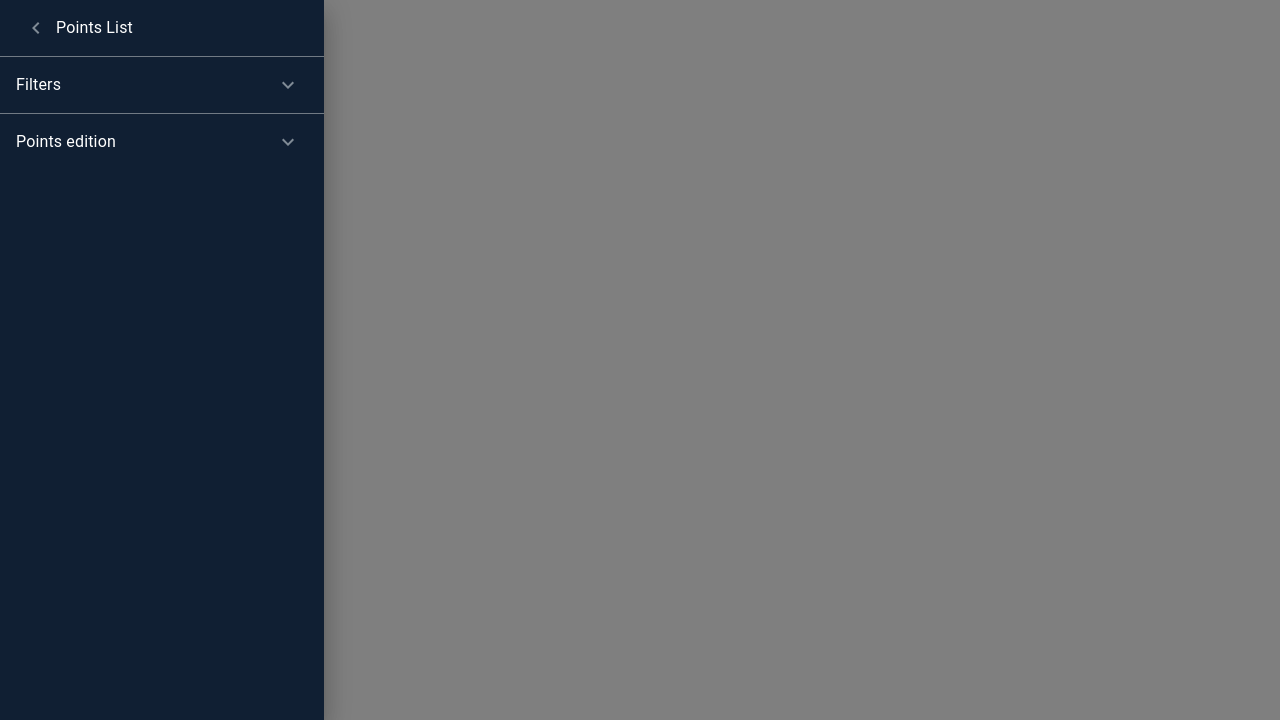
Test: check pointsView filters subbmenu opens correctly
Click the button with test id "filters" at x=39, y=84, box [0,57,324,113]
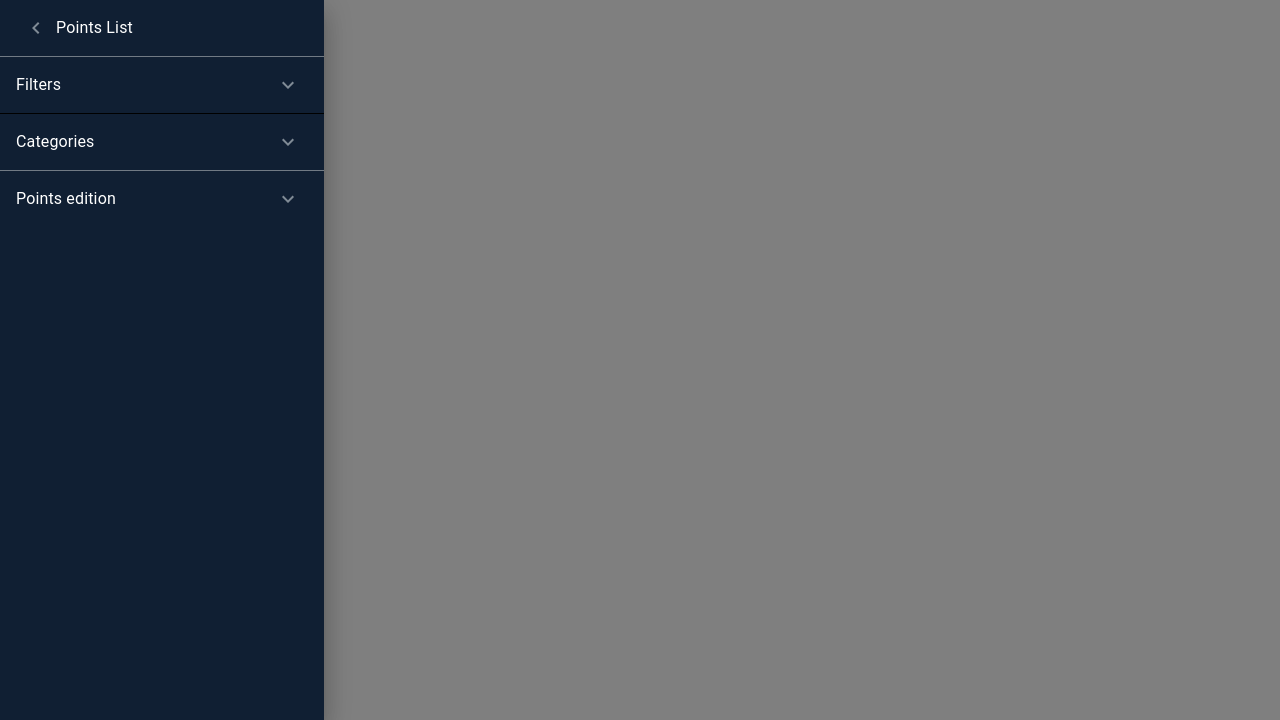
expect the button with test id "filtersCategories" is shown: met, box [0,114,324,170]
